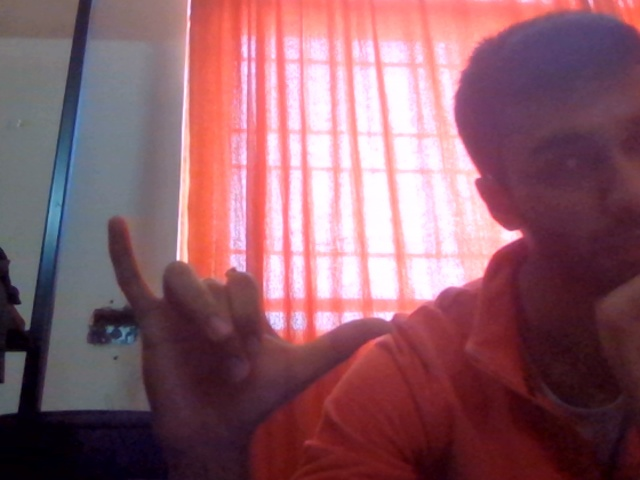Y: (91, 189, 423, 480)
